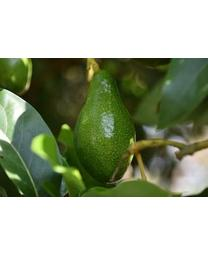avocado: (74, 70, 137, 185)
